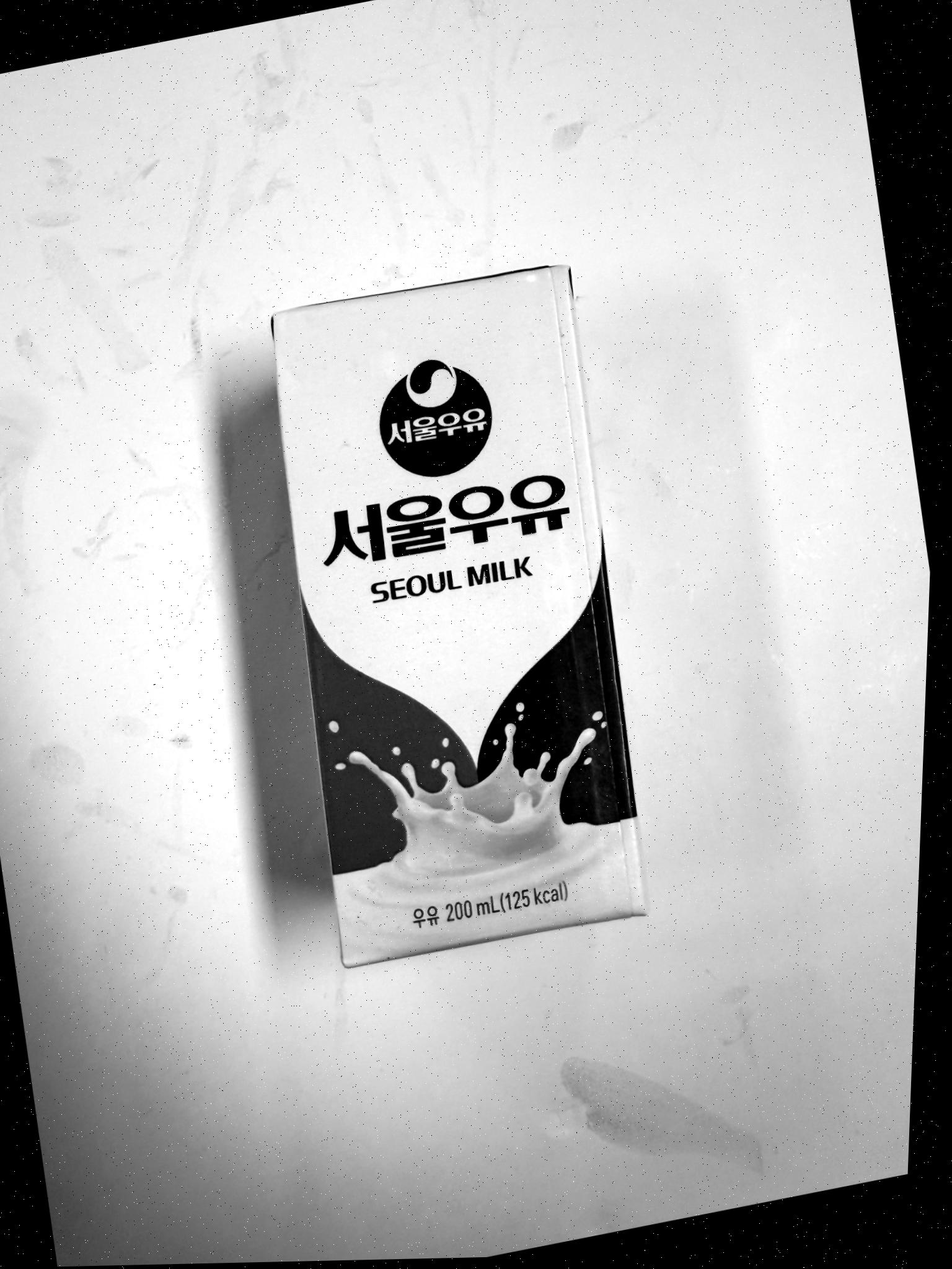milk_green: (280, 264, 645, 967)
